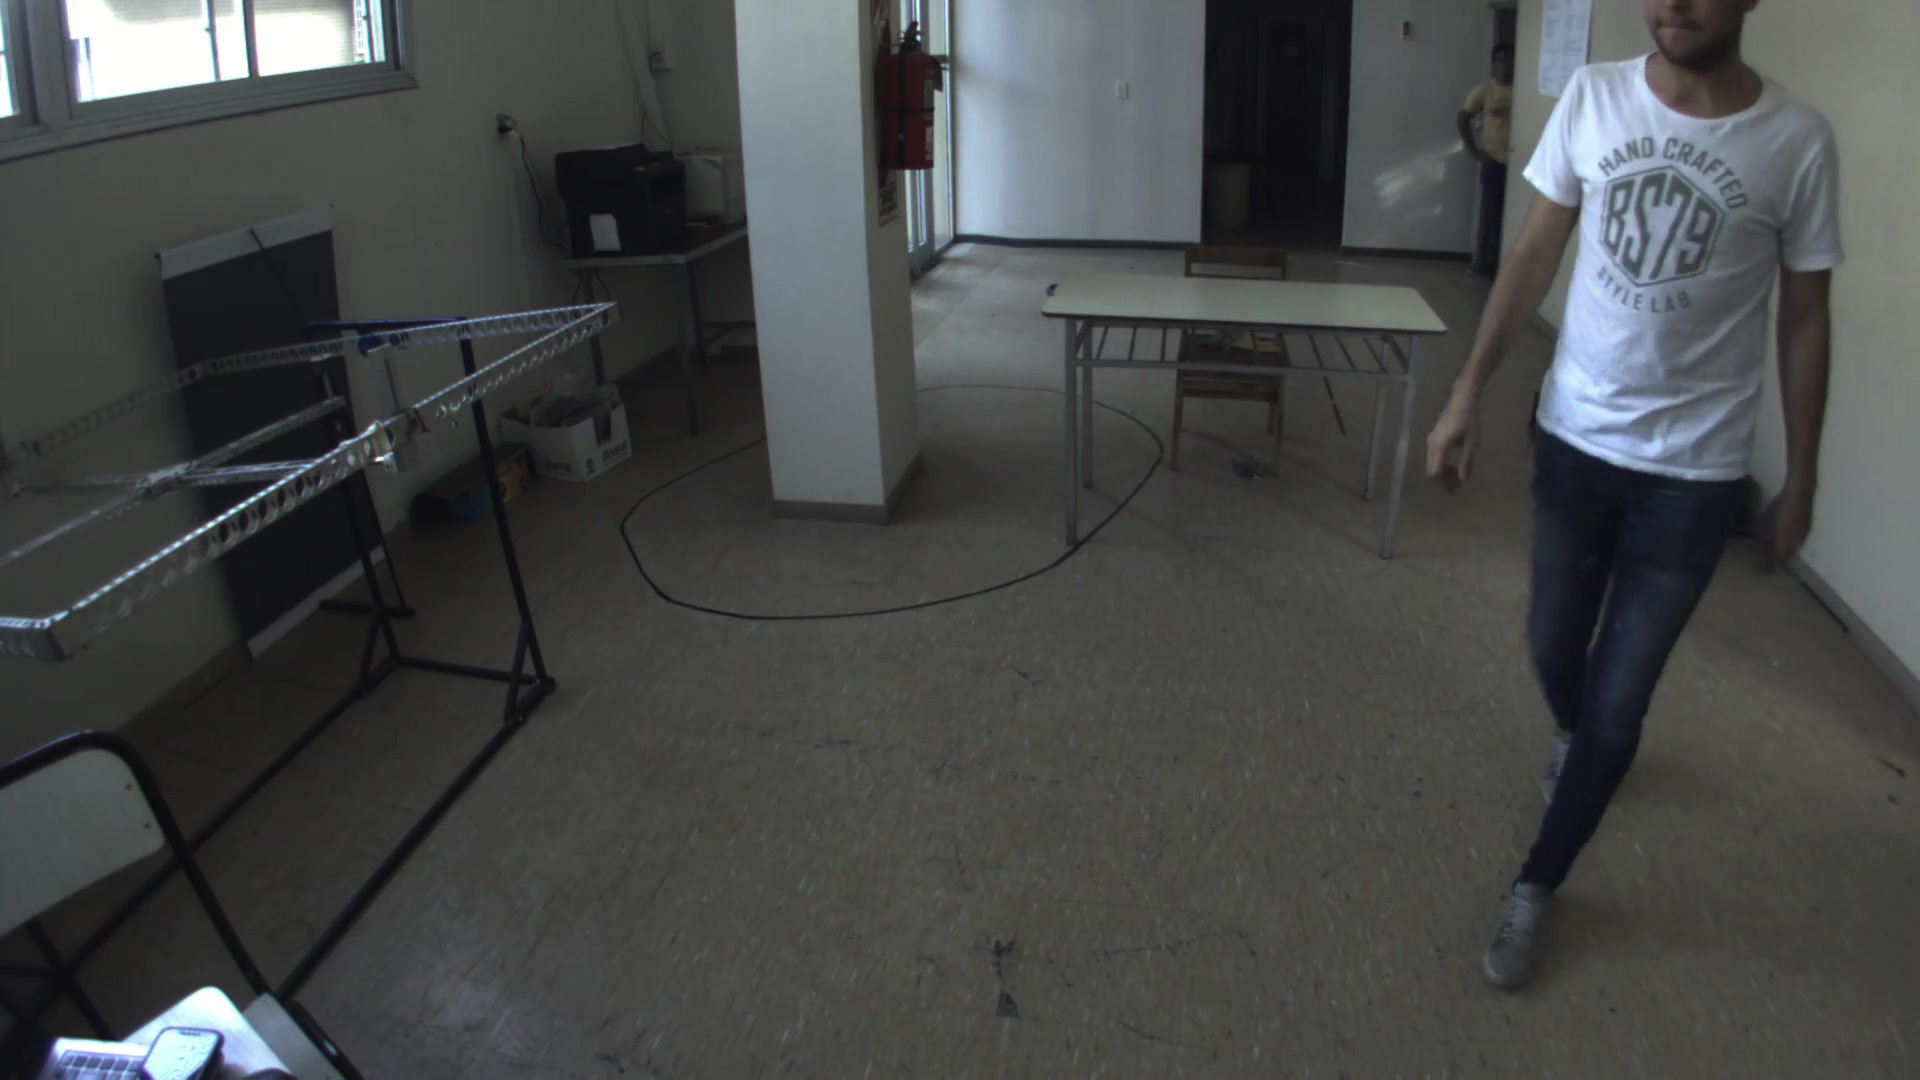hand: (1422, 386, 1494, 493)
